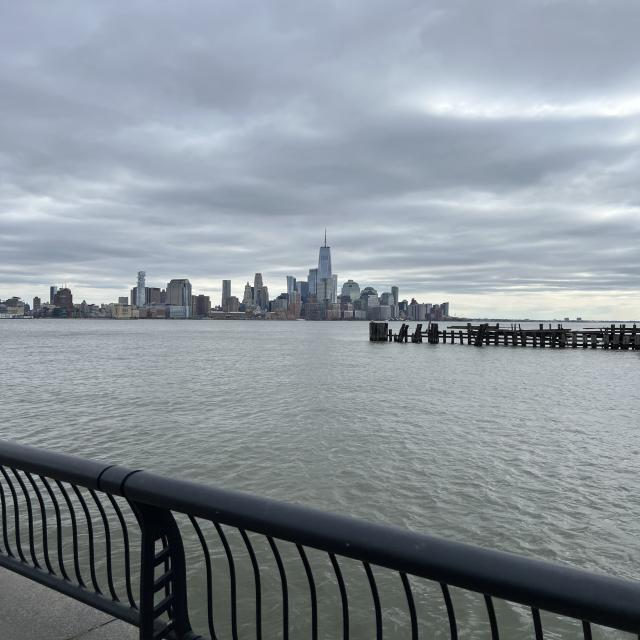WTC: (317, 228, 331, 281)
